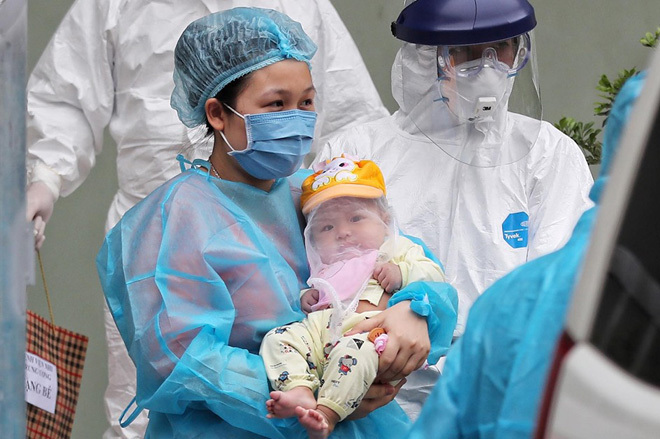Coverall: (97, 172, 456, 409), (311, 1, 599, 268), (27, 1, 391, 186)
Face_Shield: (390, 1, 543, 167)
Gloves: (25, 181, 57, 248)
Goggles: (436, 33, 533, 83)
with_mask: (229, 99, 318, 181), (438, 38, 517, 115)
